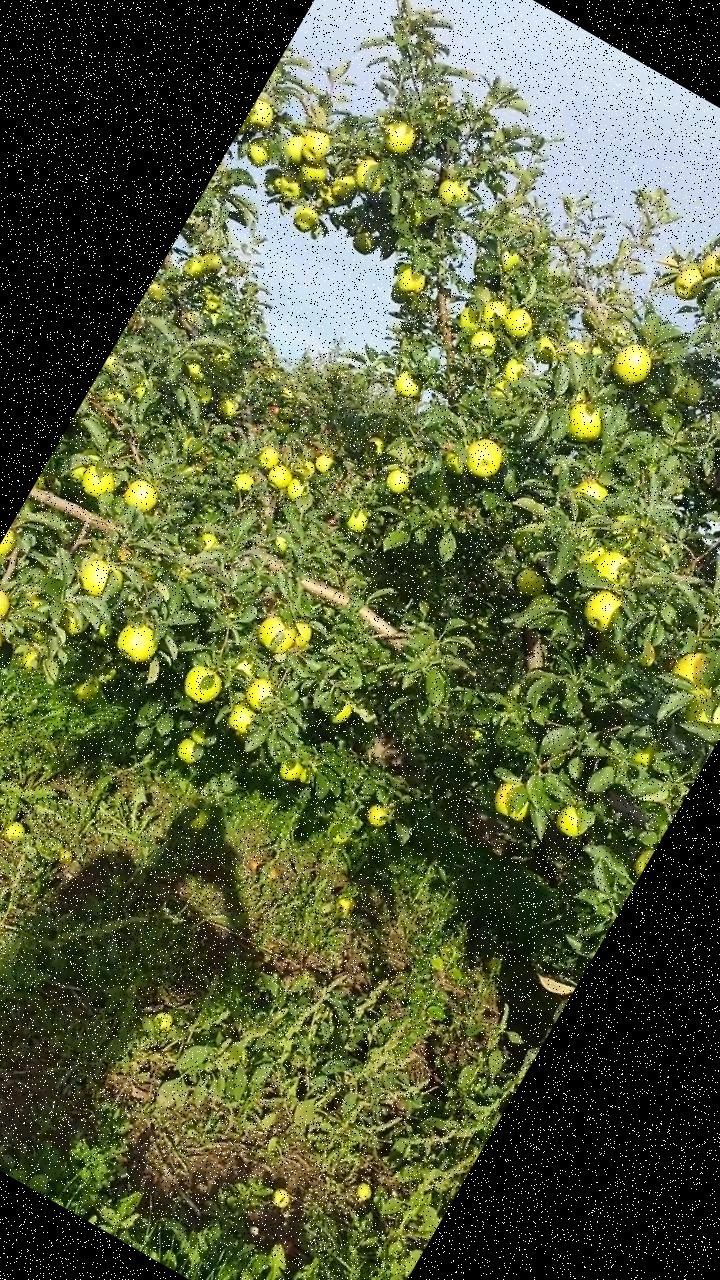Apple: (576, 584, 632, 642), (604, 338, 656, 394), (559, 397, 613, 448), (460, 433, 509, 482), (114, 620, 164, 668), (373, 113, 422, 161), (677, 688, 719, 744), (488, 778, 537, 826), (672, 646, 719, 695), (255, 611, 300, 657), (180, 662, 226, 707), (78, 459, 122, 504), (509, 560, 552, 606), (590, 629, 638, 669), (672, 263, 714, 307), (78, 552, 119, 597), (352, 156, 395, 198), (122, 474, 164, 516), (431, 173, 473, 214), (590, 545, 631, 587), (297, 128, 337, 170), (476, 296, 515, 338), (243, 99, 282, 138), (500, 304, 538, 343), (551, 335, 588, 372), (324, 172, 360, 210), (392, 264, 428, 300), (630, 734, 664, 770), (243, 676, 277, 712), (572, 476, 610, 508), (554, 802, 588, 837), (188, 718, 223, 752), (242, 134, 276, 168), (288, 201, 322, 235), (224, 701, 257, 736), (454, 303, 487, 337), (390, 371, 424, 404), (672, 377, 704, 411), (632, 636, 664, 670), (186, 378, 218, 412), (230, 652, 264, 684), (68, 676, 102, 708), (531, 333, 562, 368), (279, 130, 311, 163), (296, 159, 329, 191), (468, 328, 501, 360), (174, 736, 207, 768), (314, 180, 346, 212), (362, 799, 394, 831), (323, 818, 355, 850), (286, 617, 316, 649), (16, 645, 48, 675), (265, 462, 296, 492), (328, 698, 357, 730), (278, 170, 308, 200), (177, 435, 207, 465), (57, 608, 87, 638), (178, 256, 208, 285), (384, 468, 414, 497), (627, 847, 652, 881), (181, 359, 210, 388), (350, 230, 380, 258), (200, 248, 228, 278), (144, 280, 174, 308), (284, 474, 312, 504), (18, 586, 48, 614), (279, 755, 307, 784), (256, 446, 286, 473), (0, 581, 17, 628), (500, 356, 528, 384), (212, 393, 240, 421), (291, 454, 319, 482), (344, 508, 371, 536), (495, 248, 521, 276), (230, 468, 258, 494), (187, 808, 213, 836), (0, 529, 20, 565), (406, 208, 433, 234), (197, 290, 224, 316), (363, 432, 390, 458), (440, 451, 466, 477), (698, 251, 719, 283), (197, 530, 222, 556), (105, 386, 132, 408), (313, 451, 336, 475), (130, 377, 152, 402), (102, 354, 125, 377), (67, 463, 89, 486), (92, 620, 114, 642), (709, 239, 719, 283), (271, 419, 293, 438), (296, 420, 316, 440), (270, 534, 290, 554), (297, 767, 317, 787), (278, 406, 296, 422), (34, 474, 50, 492)
